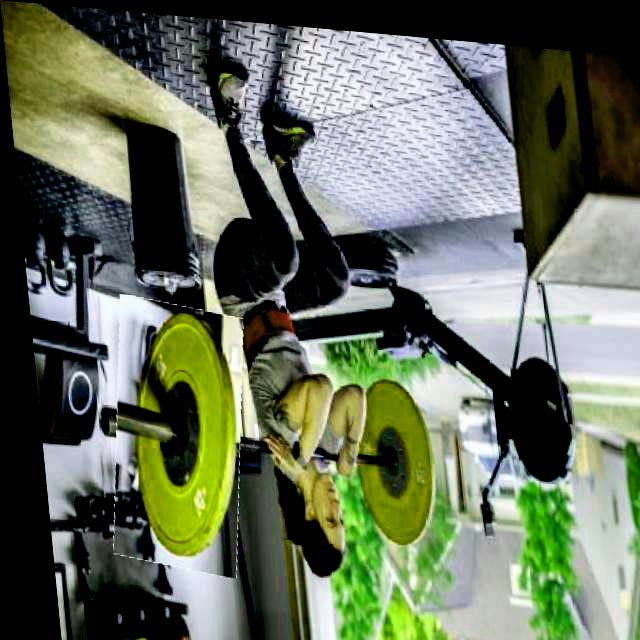barbell: (91, 295, 248, 575)
